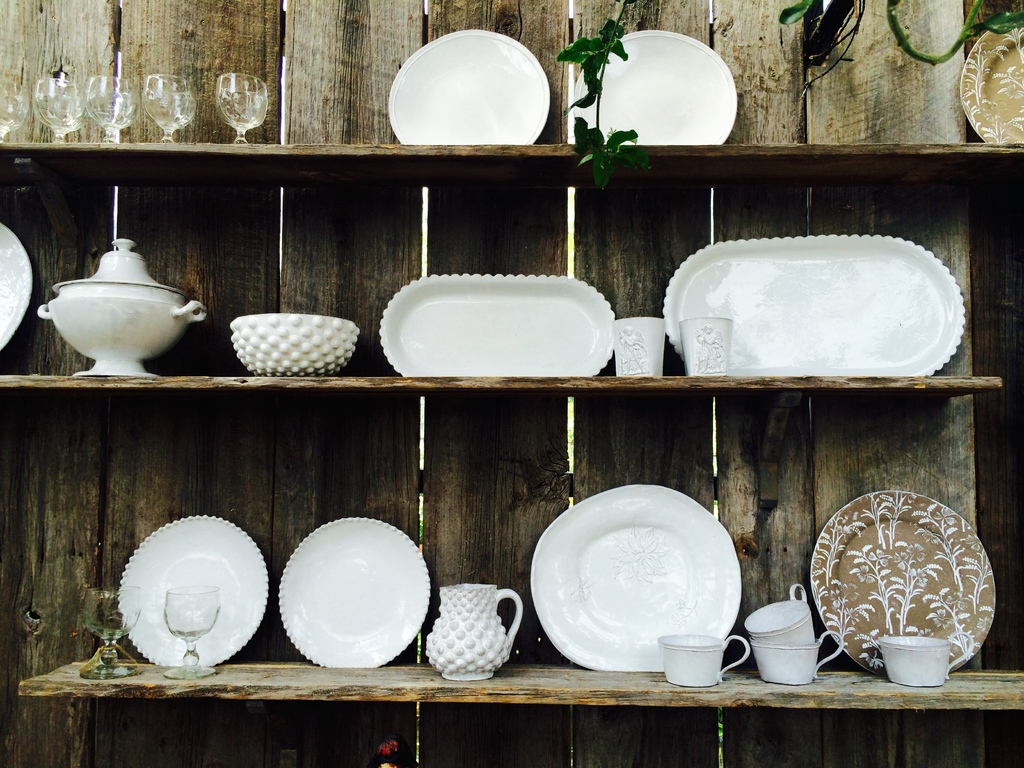plate: (279, 515, 428, 668)
